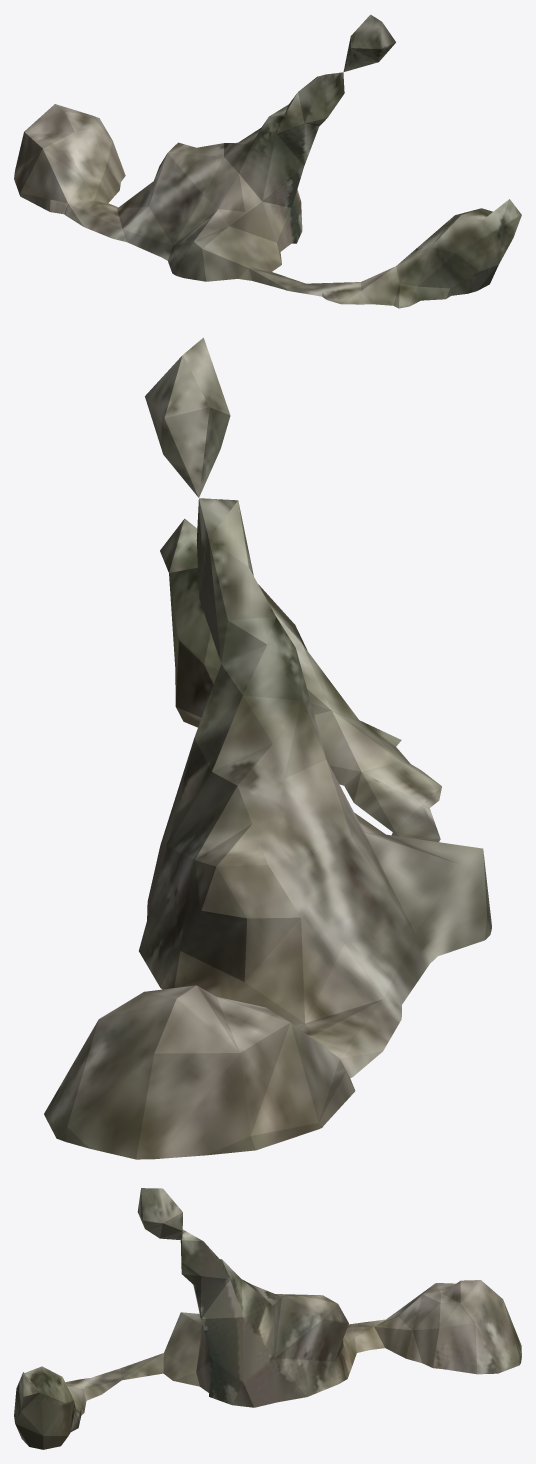
3 views of the same model, one above another, from view 1: azimuth 30°, elevation 25°; view 2: azimuth 150°, elevation 25°; view 3: azimuth 270°, elevation 25° (orthographic). The views are drawn at different scales.
Size of the model in its own units: 1.28 by 0.9843 by 1.94.
Materials: 1 (1 with a texture image).
